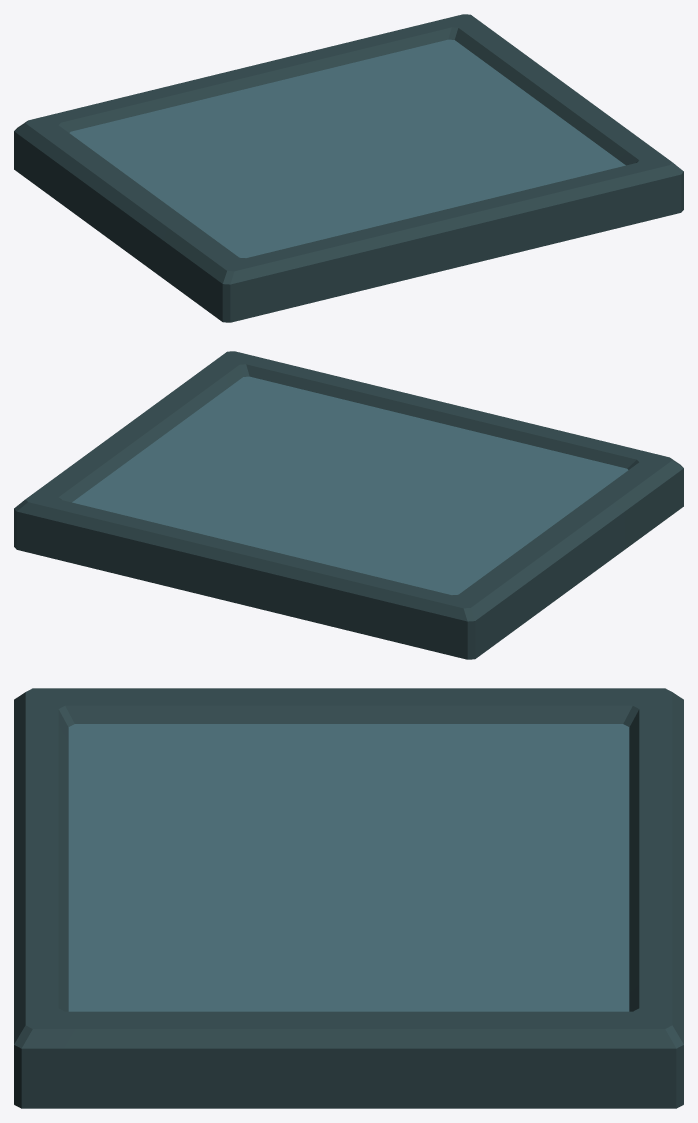
File: RoofAdd_1_E.fbx
3 renders of one model, top to bottom at view 1: azimuth 30°, elevation 25°; view 2: azimuth 150°, elevation 25°; view 3: azimuth 270°, elevation 25°, orthographic. The views are drawn at different scales.
Visible parts, largest first — view 1: RoofAdd_1_E; view 2: RoofAdd_1_E; view 3: RoofAdd_1_E.
Boxes of the visible parts, left/top/right/bottom form: RoofAdd_1_E: left=14, top=14, right=683, bottom=322; RoofAdd_1_E: left=14, top=351, right=683, bottom=659; RoofAdd_1_E: left=14, top=688, right=683, bottom=1108.
Bounding box in the file's own units: 126 × 12.27 × 101.
